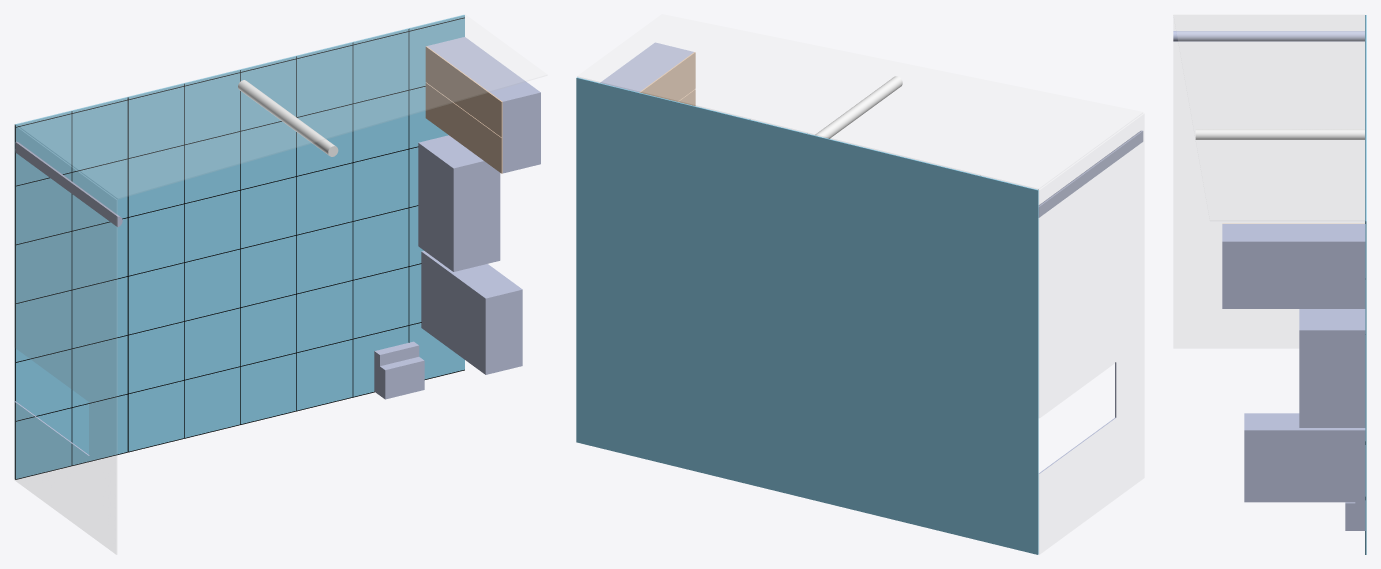
3 renders of one model, left to right at view 1: azimuth 30°, elevation 25°; view 2: azimuth 150°, elevation 25°; view 3: azimuth 270°, elevation 25°, orthographic. The views are drawn at different scales.
Parts seen in each view (by area): view 1: floor-3; view 2: floor-3; view 3: floor-3.
Boxes of the visible parts, x1,y1,x2,y2 form: floor-3: (14, 14, 546, 554); floor-3: (576, 14, 1143, 554); floor-3: (1173, 14, 1366, 554).
Bounding box in the file's own units: 8.02 × 6.06 × 3.17.
